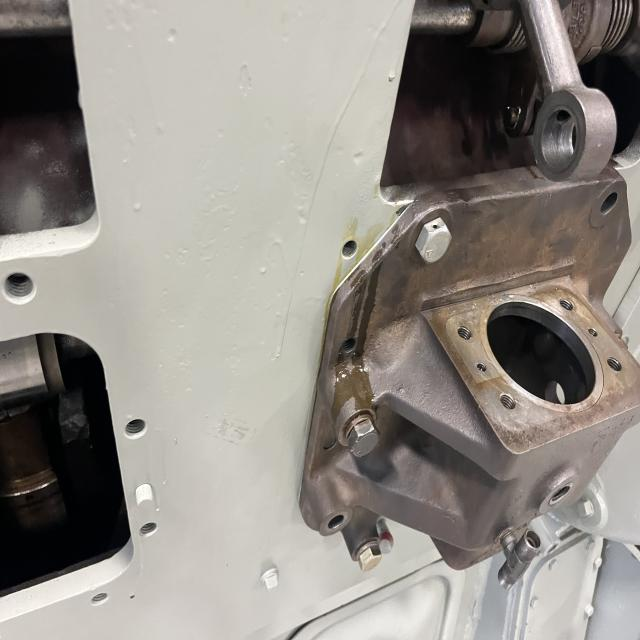Oil Leak: (315, 209, 397, 459)
